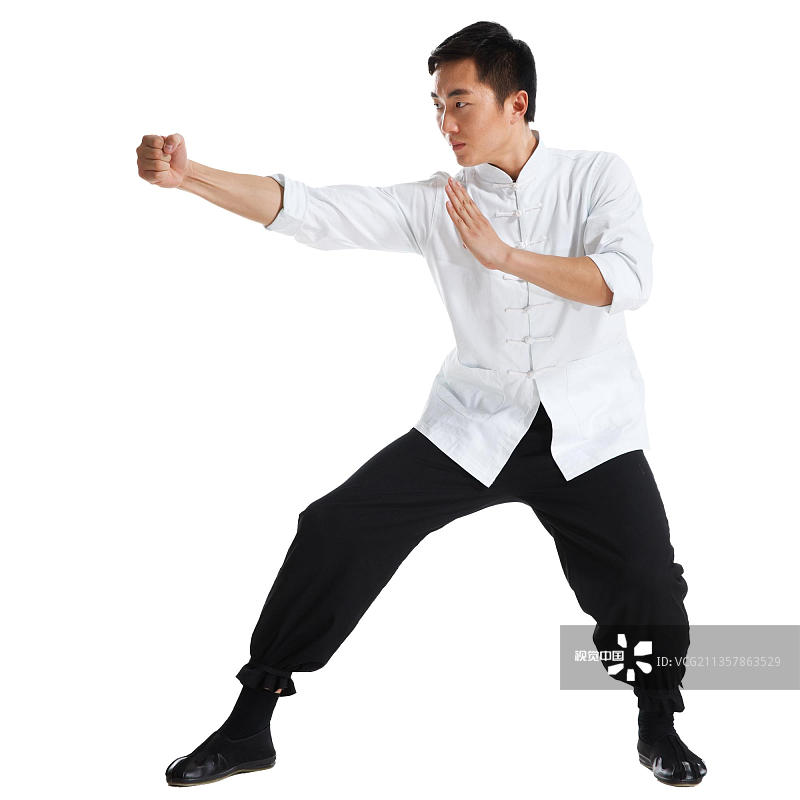no-phone: (438, 158, 530, 291), (116, 112, 210, 206)
